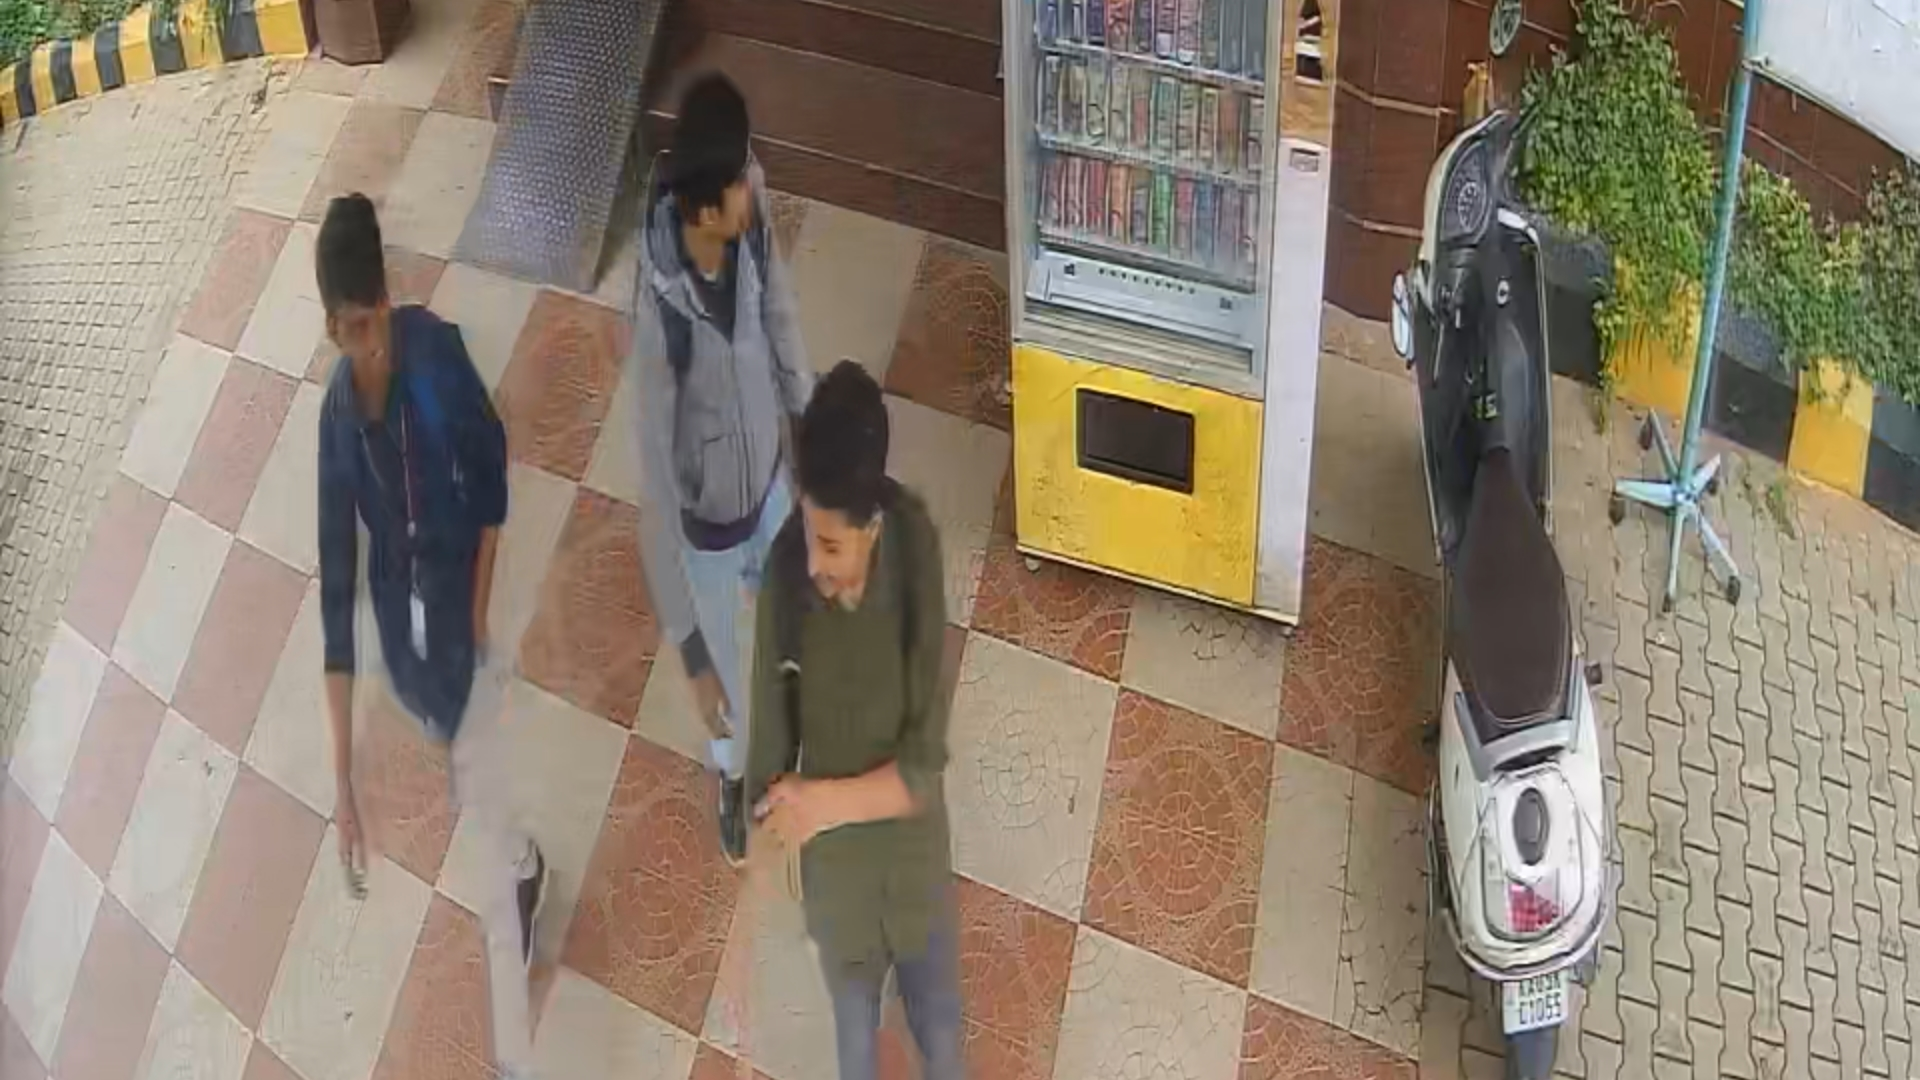intruder: (574, 45, 836, 765), (771, 357, 986, 1080)
not intruder: (306, 167, 582, 1080)
